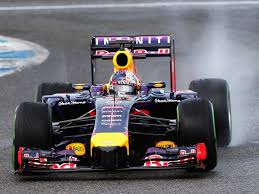FormulaOneCar: (10, 33, 236, 179)
